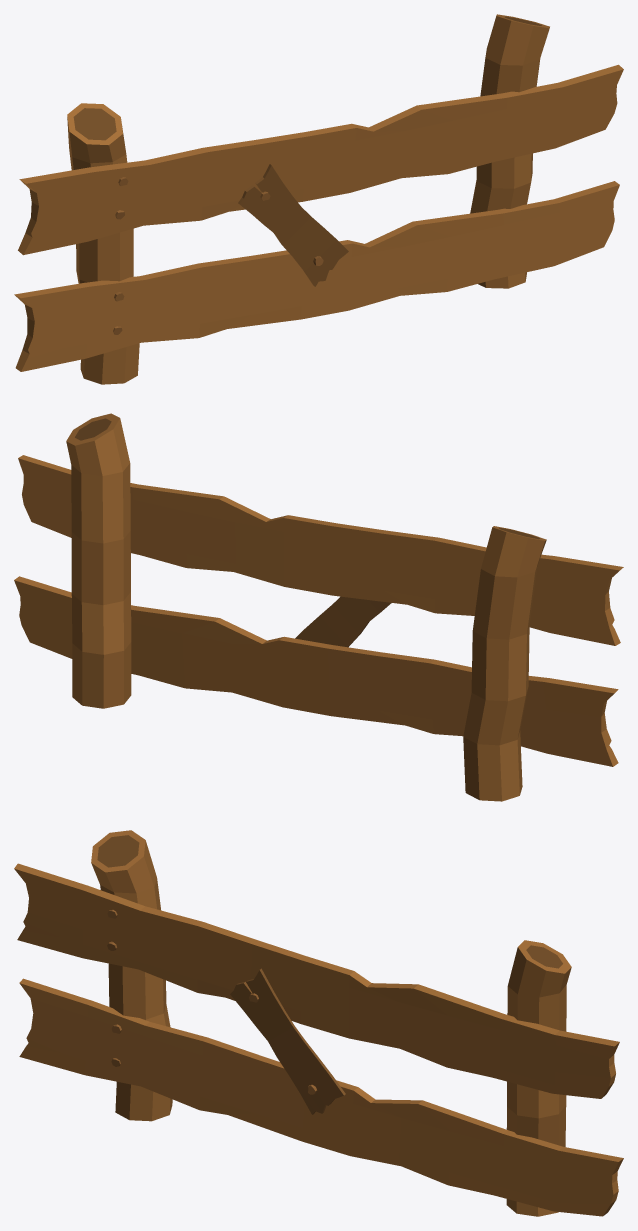
Rendered from Pagar2.fbx.
3 renders of one model, top to bottom at view 1: azimuth 30°, elevation 25°; view 2: azimuth 150°, elevation 25°; view 3: azimuth 330°, elevation 25°, orthographic.
Parts seen in each view (by area): view 1: Circle.004; view 2: Circle.004; view 3: Circle.004.
Boxes of the visible parts, x1,y1,x2,y2 form: Circle.004: [14, 14, 623, 384]; Circle.004: [14, 413, 623, 801]; Circle.004: [14, 830, 623, 1216].
Size of the model in its own units: 352 by 151 by 41.7.
